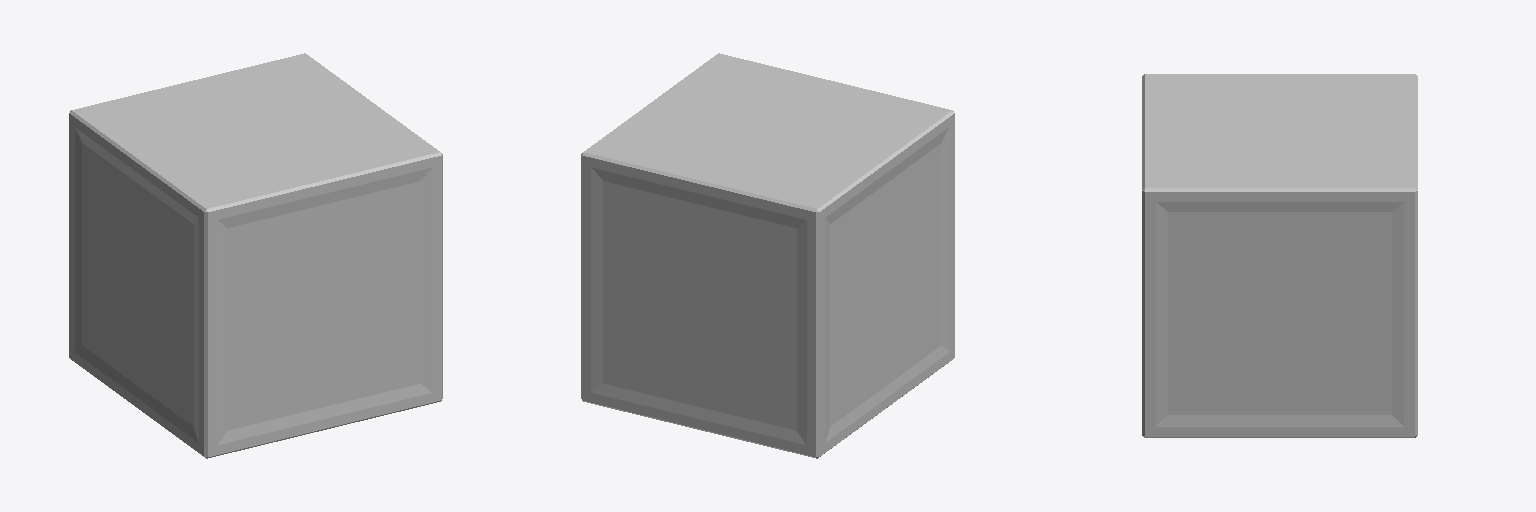
Rendered from faceball-tiles.obj.
3 views of the same model, side by side, from view 1: azimuth 30°, elevation 25°; view 2: azimuth 150°, elevation 25°; view 3: azimuth 270°, elevation 25° (orthographic).
Visible parts, largest first — view 1: Cube; view 2: Cube; view 3: Cube.
Part boxes in pixels (x1,y1,x2,y2): Cube: (69,53,442,458); Cube: (581,53,954,458); Cube: (1142,74,1417,437).
Size of the model in its own units: 2 by 2 by 2.